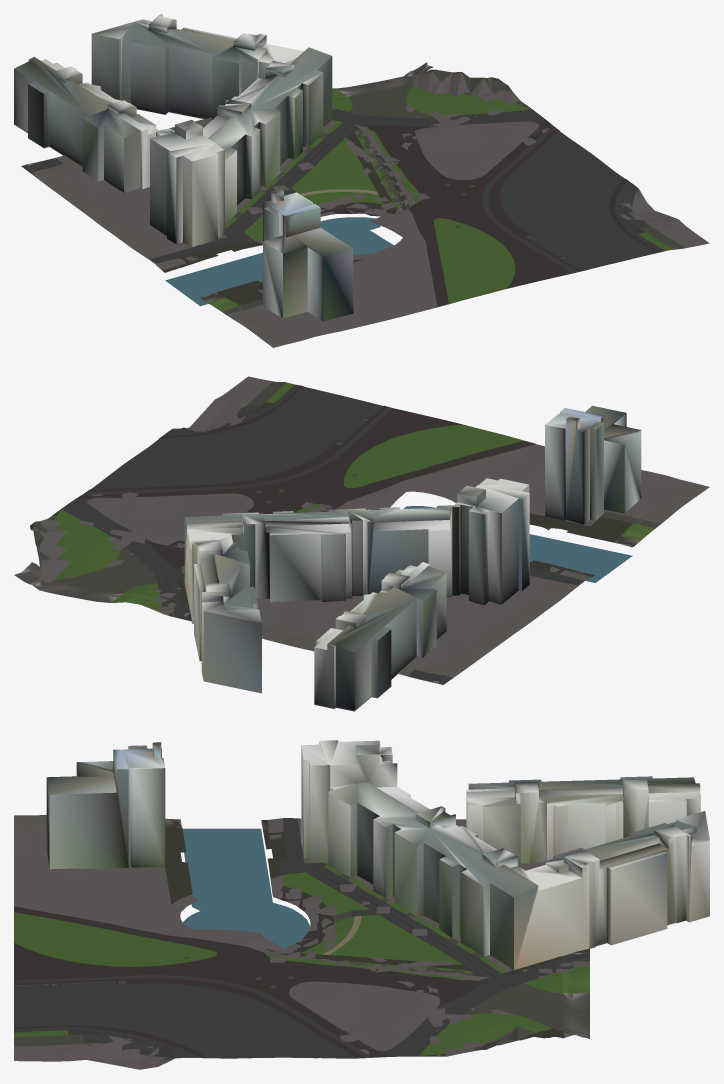
The picture shows the model from 3 angles, top to bottom: view 1: azimuth 30°, elevation 25°; view 2: azimuth 150°, elevation 25°; view 3: azimuth 270°, elevation 25°; orthographic projection. The views are drawn at different scales.
Parts seen in each view (by area): view 1: c_m14_p06; view 2: c_m14_p06; view 3: c_m14_p06.
Boxes of the visible parts, x1,y1,x2,y2 form: c_m14_p06: (14,14,709,347); c_m14_p06: (14,376,709,711); c_m14_p06: (14,740,709,1069).
Size of the model in its own units: 128 by 29.64 by 155.
